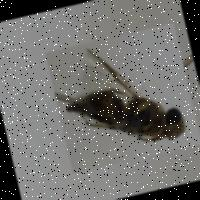Oriental-fruit-fly: (43, 21, 200, 172)
